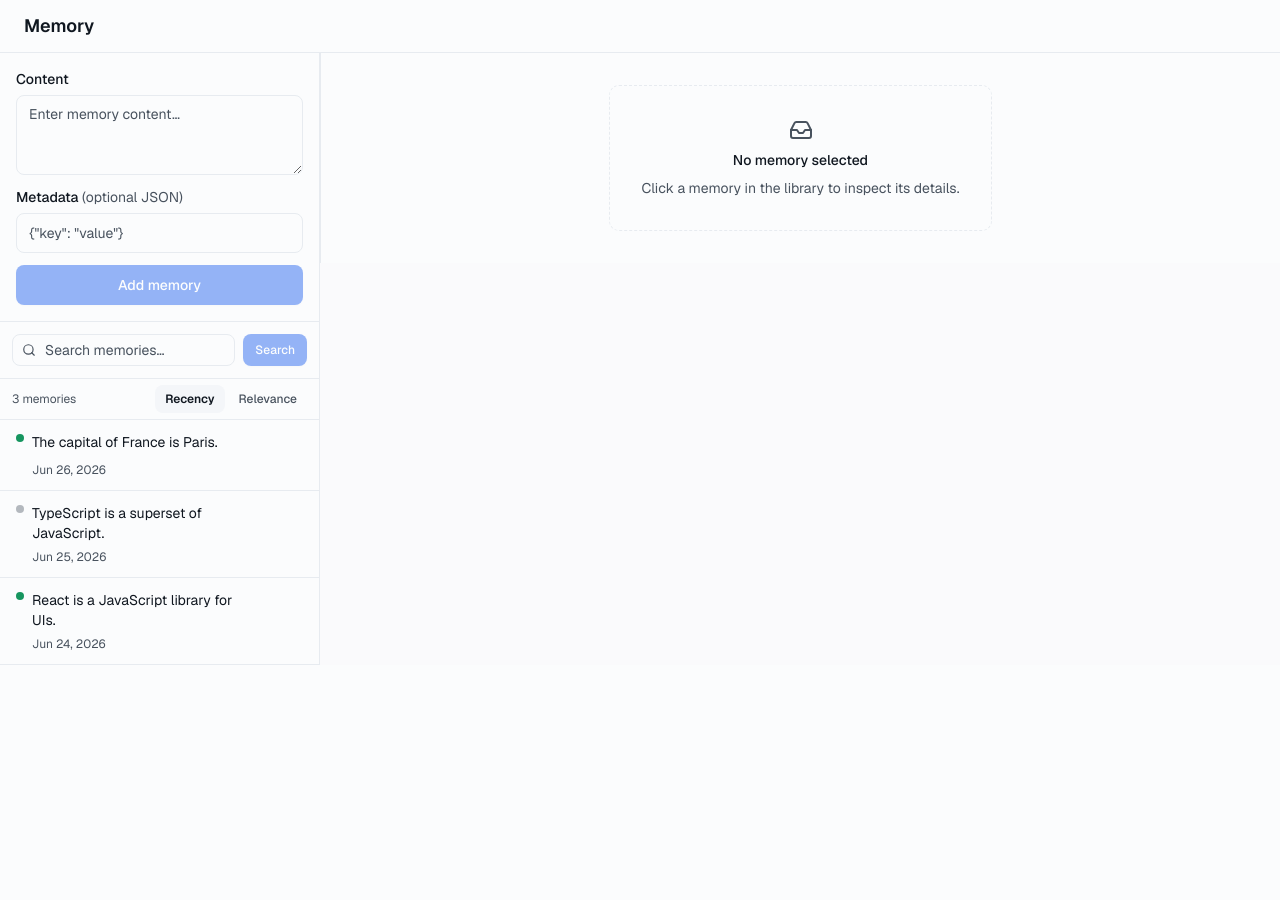
Test: MemoryWorkspace — Console-grade behaviors › score_bar_visible_when_score_not_null
This screenshot has width=1280, height=900.
In the field labelled "Search memories…": (124, 350) [12, 334, 235, 366], type "France"
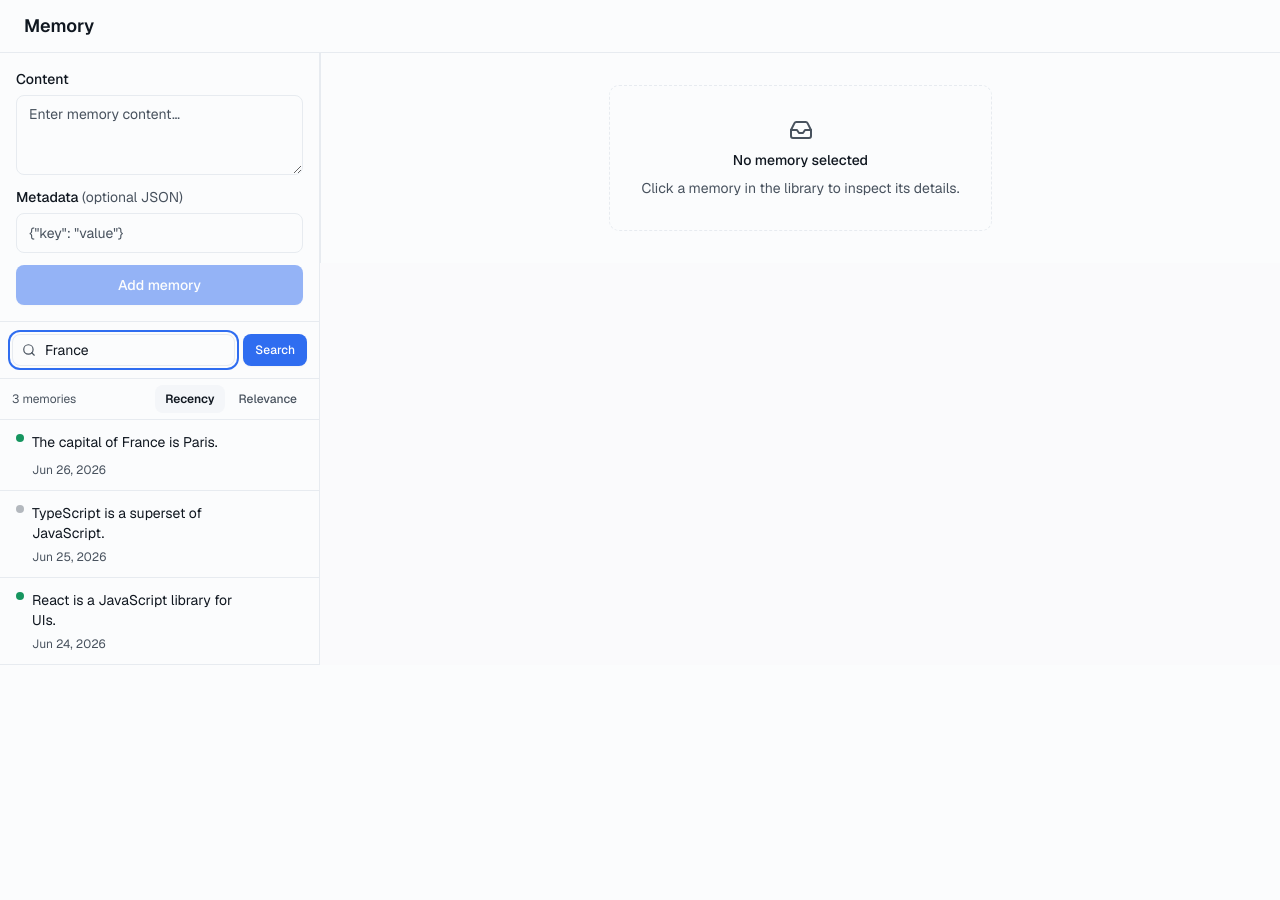
Click the button "Search": (275, 350) [243, 334, 307, 366]
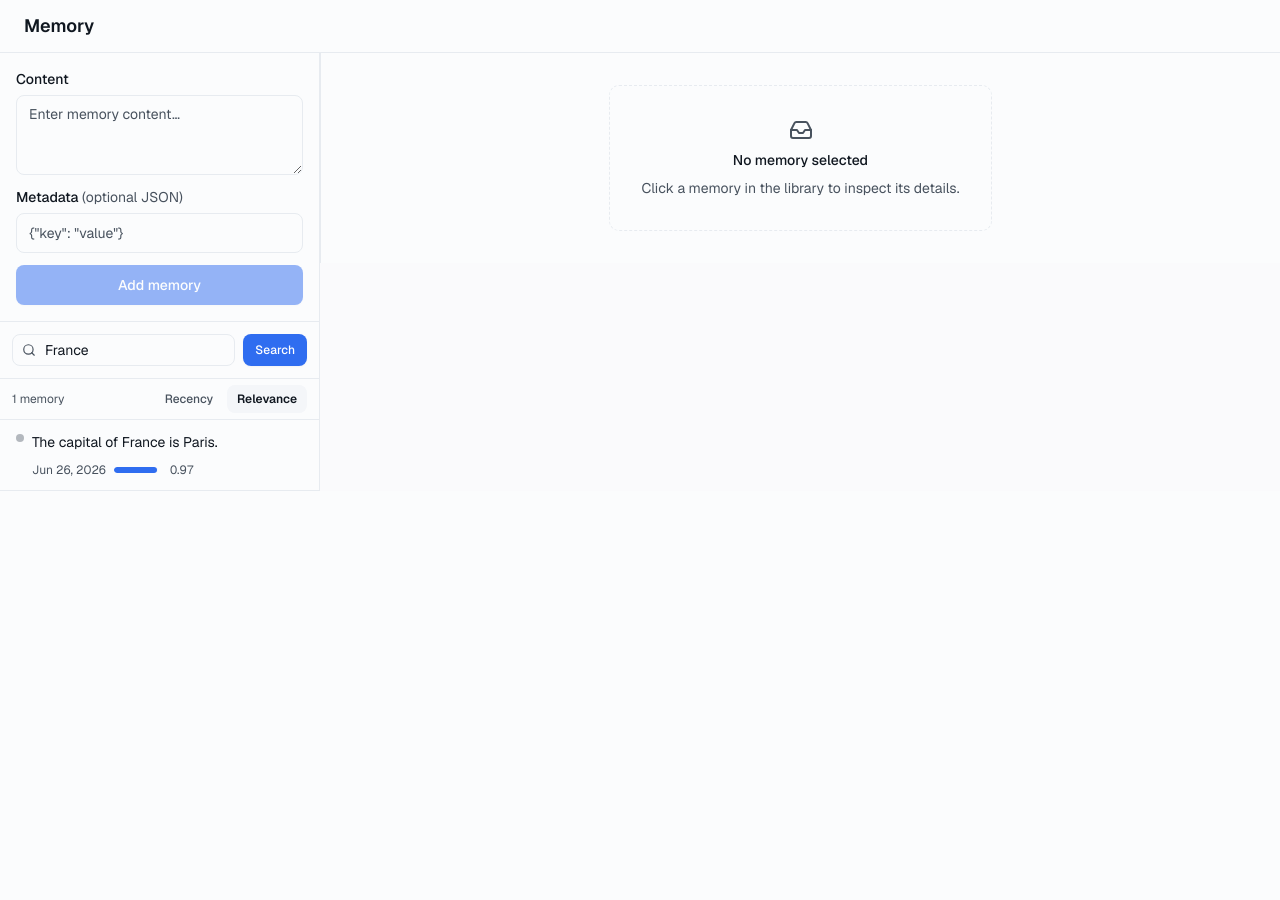
Expected: the text "The capital of France is Paris." is shown, [32, 432, 242, 452]
Now the progress indicator is shown, box [114, 467, 158, 473]
